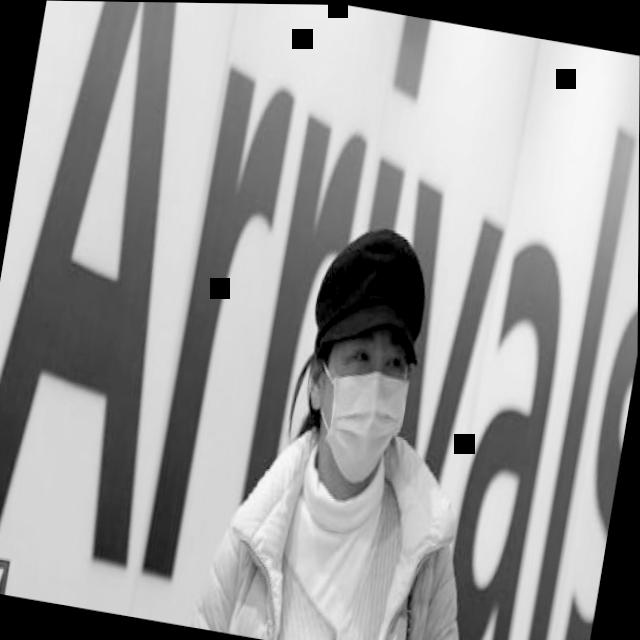Mask: (278, 223, 460, 507)
